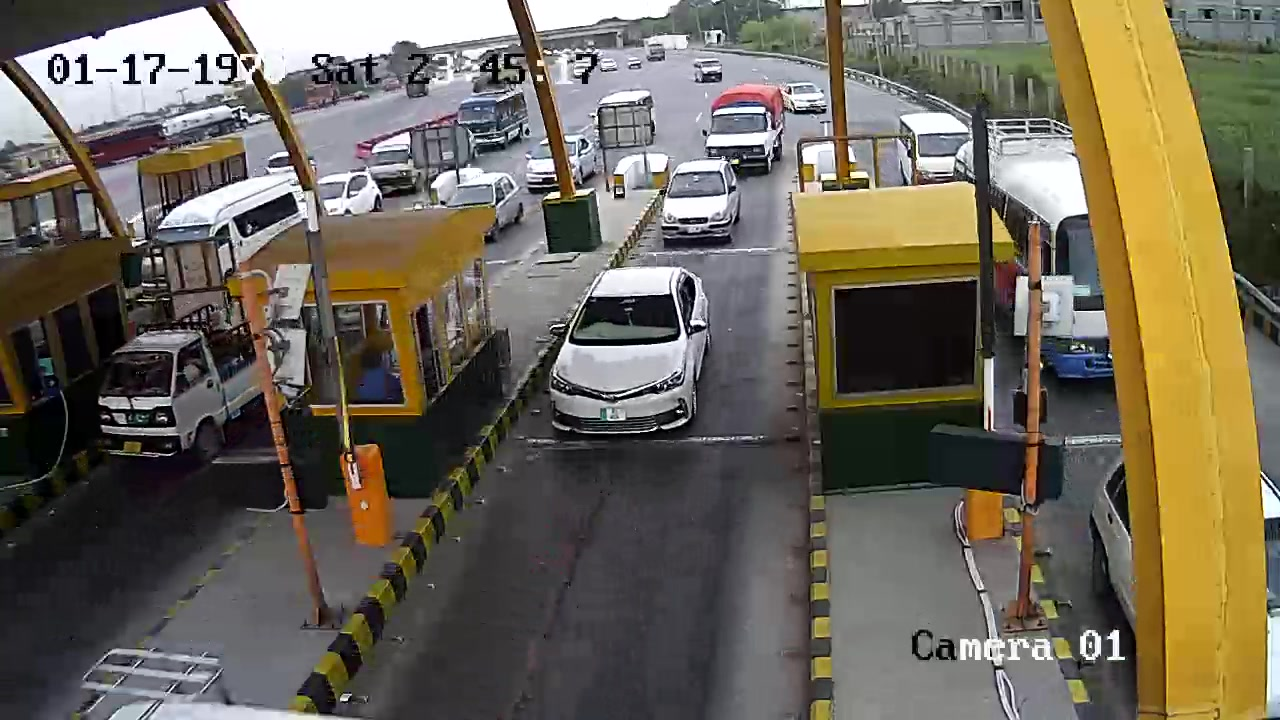F1: (538, 255, 725, 450)
